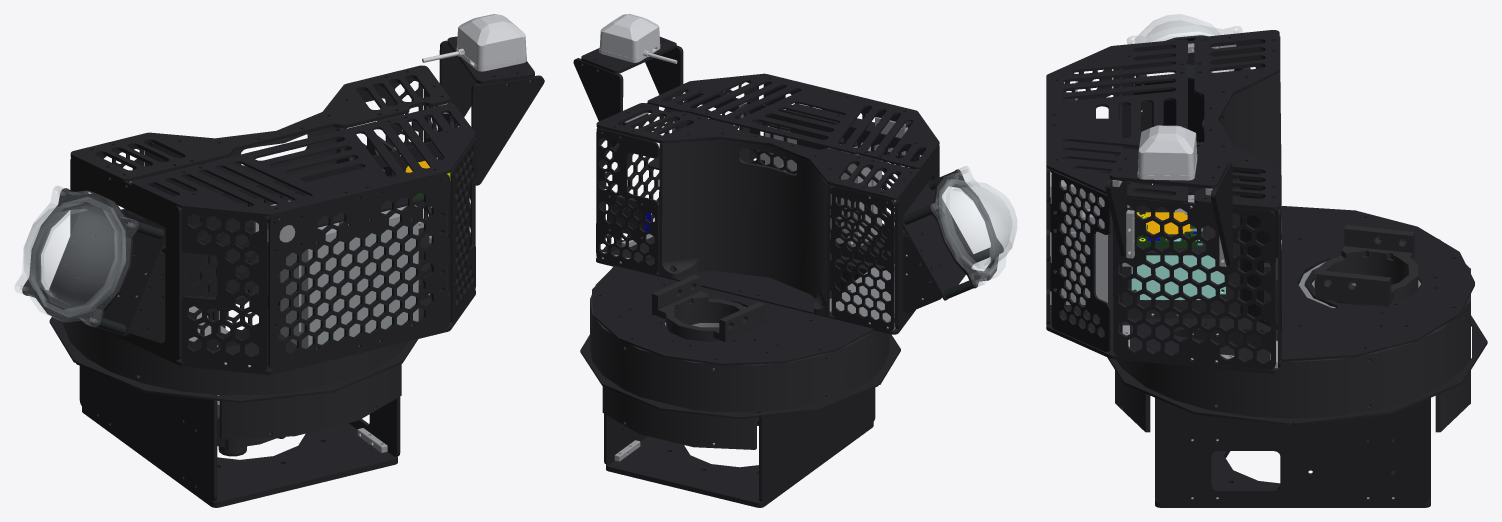
File: gimbal_link_structure.glb
The picture shows the model from 3 angles, left to right: view 1: azimuth 30°, elevation 25°; view 2: azimuth 150°, elevation 25°; view 3: azimuth 270°, elevation 25°; orthographic projection. The views are drawn at different scales.
Visible parts, largest first — view 1: 弹仓3.21.0-1#180, 弹仓上板3.3.1011.21.0-1#177, 弹仓打印2.10.31-5#162, 弹仓上板3.3.10111.0-1#148, 云台侧支撑10.31-2#184, mid360保护罩1.0-1#90, nuc保护2.21.0-1#62, 云台底板10.31-1#156, 雷达固定31.0-1#94, nuc尺寸模型10.31-1#133, 雷达固定板3。31.0-1#181, 弹仓2.2。21.0-1#178 (+15 smaller); view 2: 弹仓打印10.31-1#78, 弹仓打印2.10.31-5_1#169, 弹仓上板3.3.1011.21.0-1#177, 弹仓上板3.3.10111.0-1#148, 云台侧支撑10.31-2#184, 弹仓板11.7-1#187, 弹仓打印3.26.4.11-1#170, 云台底板10.31-1#156, 弹仓1.10.31-2#149, 弹仓11.7-1#185, 弹仓板11.7（2）-1#182, mid360保护罩1.0-1#90 (+20 smaller); view 3: 云台侧支撑（上转安装）10.31-1#166, 定位模块固定板31.0-1#60, 弹仓打印3.26.4.11-1_1#171, 弹仓上板3.3.1011.21.0-1#177, 弹仓板11.7（2）-1#182, 弹仓上板3.3.10111.0-1#148, 弹仓板11.7-1#187, nuc保护10171.0-1#81, 轴承固定1.10.1-1#134, 弹仓打印10.31-1#78, 弹仓板10.31-1#145, 弹仓打印2.10.31-5_1#169 (+20 smaller).
Part boxes in pixels (left/top/right/bottom): 弹仓3.21.0-1#180: left=268, top=174, right=449, bottom=370; 弹仓上板3.3.1011.21.0-1#177: left=131, top=103, right=475, bottom=216; 弹仓打印2.10.31-5#162: left=219, top=343, right=401, bottom=439; 弹仓上板3.3.10111.0-1#148: left=70, top=65, right=449, bottom=181; 云台侧支撑10.31-2#184: left=79, top=366, right=217, bottom=501; mid360保护罩1.0-1#90: left=23, top=197, right=125, bottom=316; nuc保护2.21.0-1#62: left=181, top=208, right=267, bottom=371; 云台底板10.31-1#156: left=82, top=407, right=397, bottom=507; 雷达固定31.0-1#94: left=49, top=205, right=165, bottom=336; nuc尺寸模型10.31-1#133: left=280, top=206, right=418, bottom=348; 雷达固定板3。31.0-1#181: left=70, top=158, right=181, bottom=360; 弹仓2.2。21.0-1#178: left=181, top=141, right=467, bottom=350; 弹仓打印10.31-1#78: left=658, top=139, right=834, bottom=317; 弹仓打印2.10.31-5_1#169: left=602, top=327, right=756, bottom=449; 弹仓上板3.3.1011.21.0-1#177: left=647, top=73, right=939, bottom=169; 弹仓上板3.3.10111.0-1#148: left=596, top=103, right=917, bottom=200; 云台侧支撑10.31-2#184: left=759, top=358, right=875, bottom=502; 弹仓板11.7-1#187: left=665, top=297, right=873, bottom=365; 弹仓打印3.26.4.11-1#170: left=755, top=330, right=889, bottom=412; 云台底板10.31-1#156: left=606, top=418, right=873, bottom=507; 弹仓1.10.31-2#149: left=831, top=186, right=894, bottom=330; 弹仓11.7-1#185: left=596, top=128, right=658, bottom=273; 弹仓板11.7（2）-1#182: left=592, top=266, right=743, bottom=357; mid360保护罩1.0-1#90: left=940, top=179, right=1017, bottom=274; 云台侧支撑（上转安装）10.31-1#166: left=1155, top=331, right=1430, bottom=502; 定位模块固定板31.0-1#60: left=1112, top=198, right=1275, bottom=369; 弹仓打印3.26.4.11-1_1#171: left=1145, top=330, right=1440, bottom=418; 弹仓上板3.3.1011.21.0-1#177: left=1046, top=39, right=1187, bottom=202; 弹仓板11.7（2）-1#182: left=1281, top=282, right=1474, bottom=361; 弹仓上板3.3.10111.0-1#148: left=1194, top=30, right=1279, bottom=210; 弹仓板11.7-1#187: left=1281, top=206, right=1474, bottom=283; nuc保护10171.0-1#81: left=1051, top=171, right=1110, bottom=351; 轴承固定1.10.1-1#134: left=1314, top=225, right=1418, bottom=306; 弹仓打印10.31-1#78: left=1202, top=72, right=1281, bottom=331; 弹仓板10.31-1#145: left=1046, top=214, right=1280, bottom=374; 弹仓打印2.10.31-5_1#169: left=1435, top=240, right=1470, bottom=432.
Bounding box in the file's own units: 0.4724 × 0.3754 × 0.3515.
